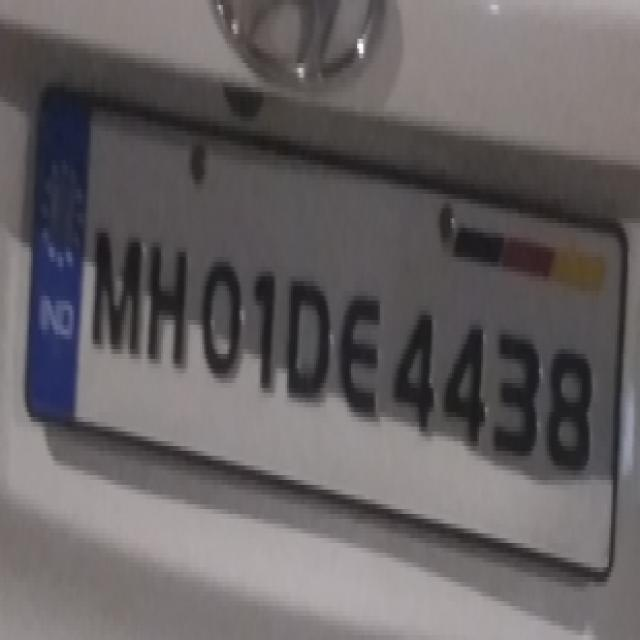0: (197, 250, 246, 384)
1: (249, 254, 283, 398)
3: (492, 316, 543, 464)
4: (395, 285, 442, 454), (442, 308, 490, 455)
8: (547, 338, 594, 486)
D: (288, 265, 335, 410)
E: (340, 280, 386, 436)
H: (146, 224, 194, 374)
M: (86, 210, 142, 368)
